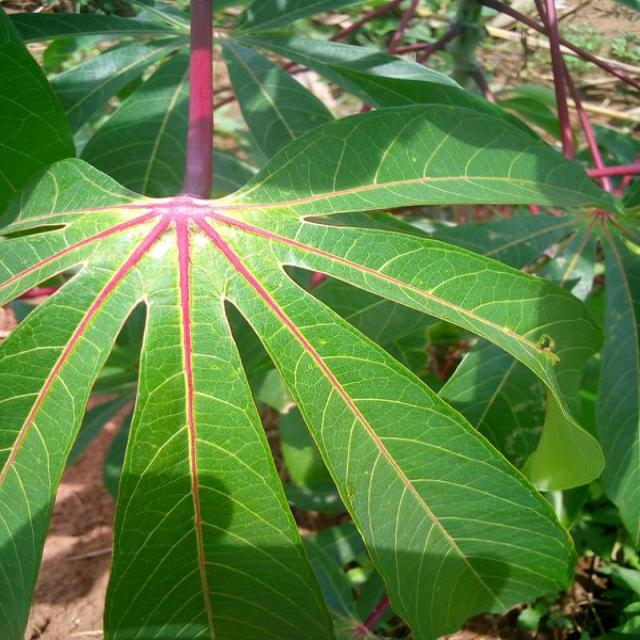Mosaico: (93, 167, 398, 396)
